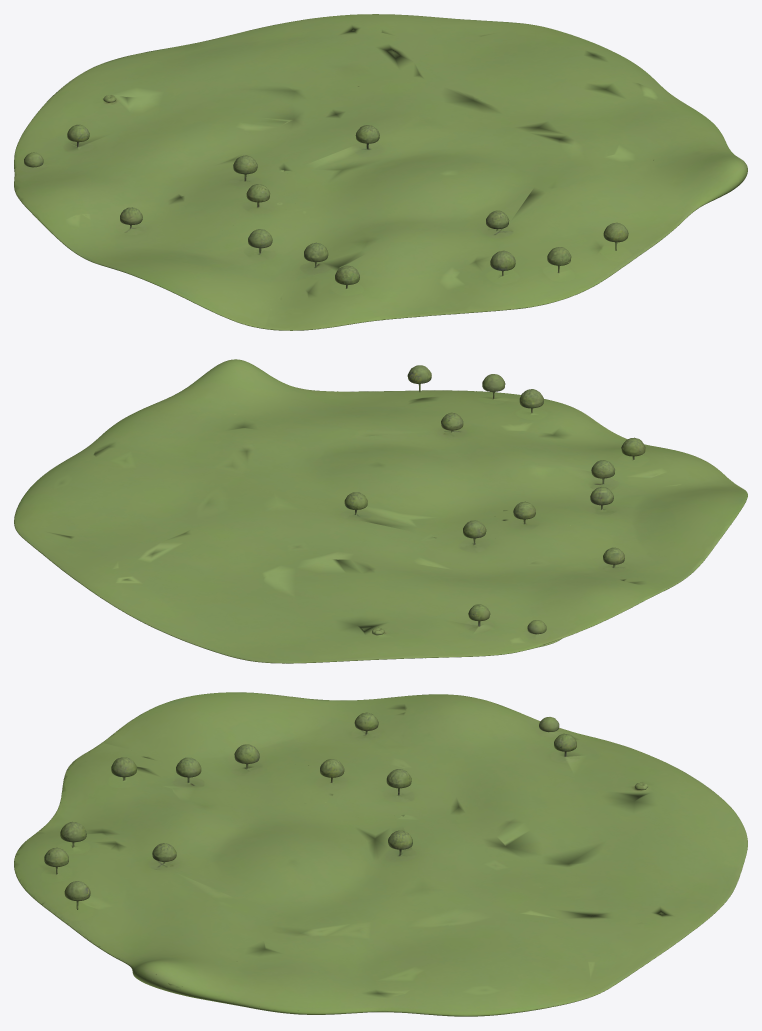
The model's file is user_island.glb.
The picture shows the model from 3 angles, top to bottom: view 1: azimuth 30°, elevation 25°; view 2: azimuth 150°, elevation 25°; view 3: azimuth 270°, elevation 25°; orthographic projection. The views are drawn at different scales.
Visible parts, largest first — view 1: node_0; view 2: node_0; view 3: node_0.
Boxes of the visible parts, x1,y1,x2,y2 form: node_0: (14, 14, 747, 330); node_0: (14, 359, 747, 663); node_0: (14, 692, 747, 1016).
Size of the model in its own units: 1.1 by 0.0677 by 1.1.
1 material, 1 textured.
